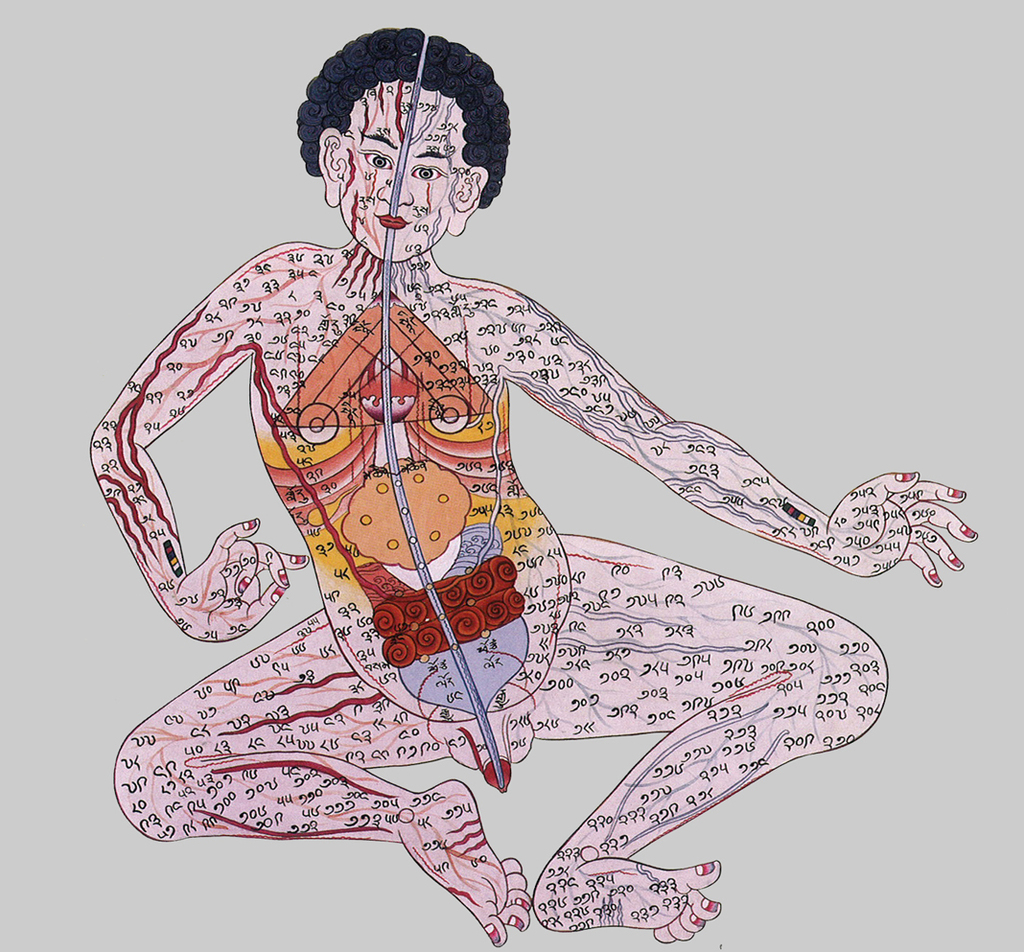Human_hand: (821, 462, 980, 592), (158, 516, 308, 647)
